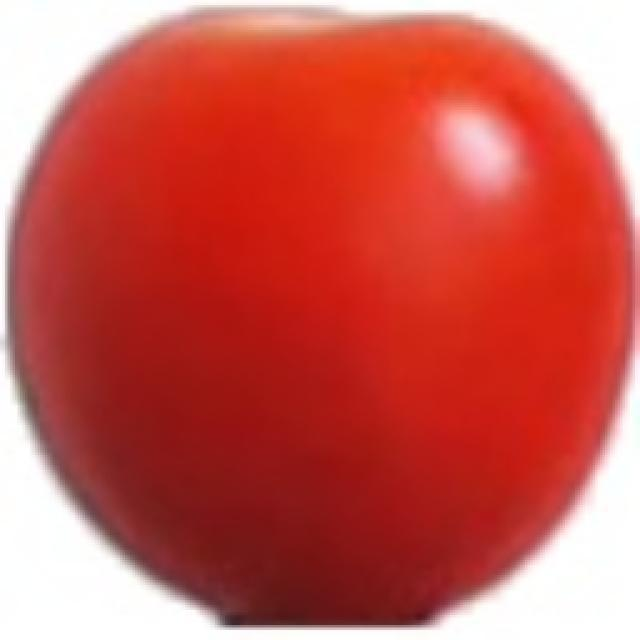tomato: (6, 8, 637, 630)
